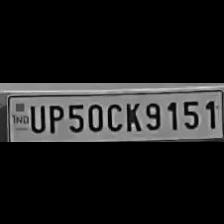0: (84, 100, 104, 132)
1: (163, 97, 179, 130), (202, 96, 218, 128)
5: (178, 96, 200, 130), (64, 100, 84, 132)
9: (142, 98, 162, 130)
C: (104, 99, 122, 131)
K: (121, 98, 141, 132)
P: (45, 100, 63, 134)
U: (27, 102, 46, 132)
